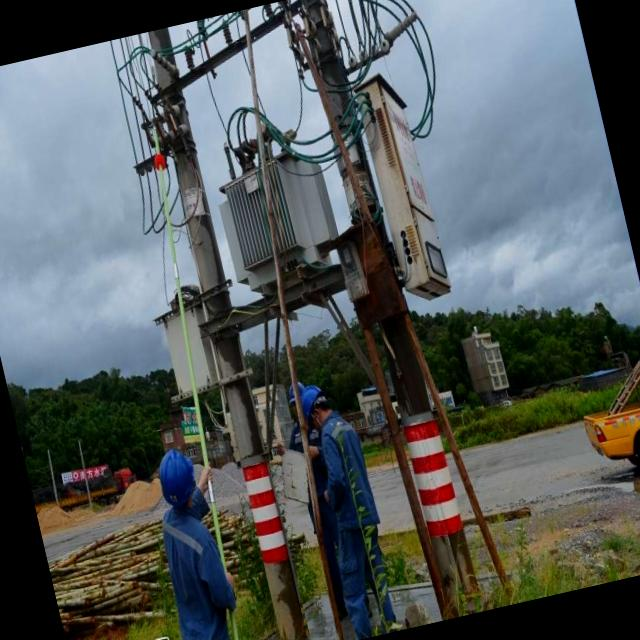helmet: (150, 448, 200, 506), (292, 380, 326, 410)
no-vest: (317, 410, 386, 554)
vest: (152, 498, 242, 640)
